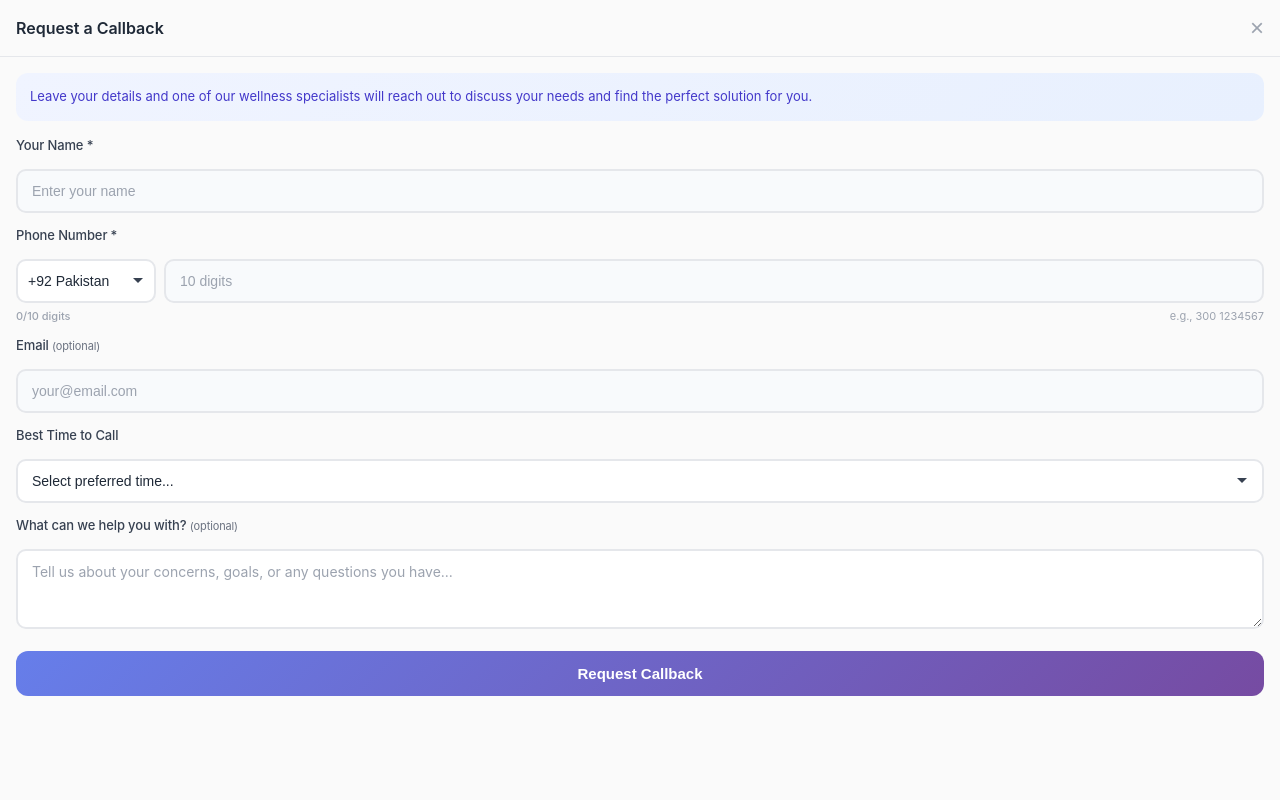
CallbackForm Validation › should show name validation error on blur
Click the field with placeholder "Enter your name" at (640, 190), box top-left (16, 168), bottom-right (1264, 212)
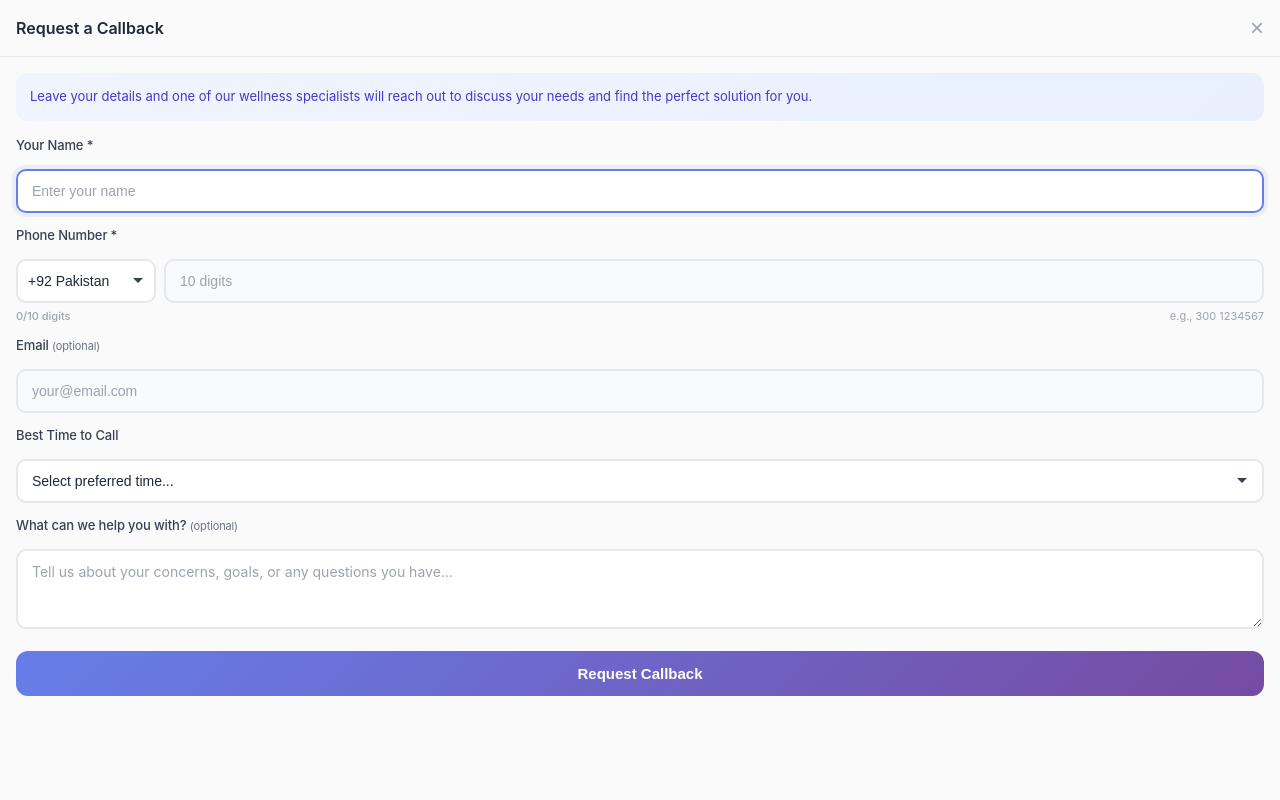
Press Tab
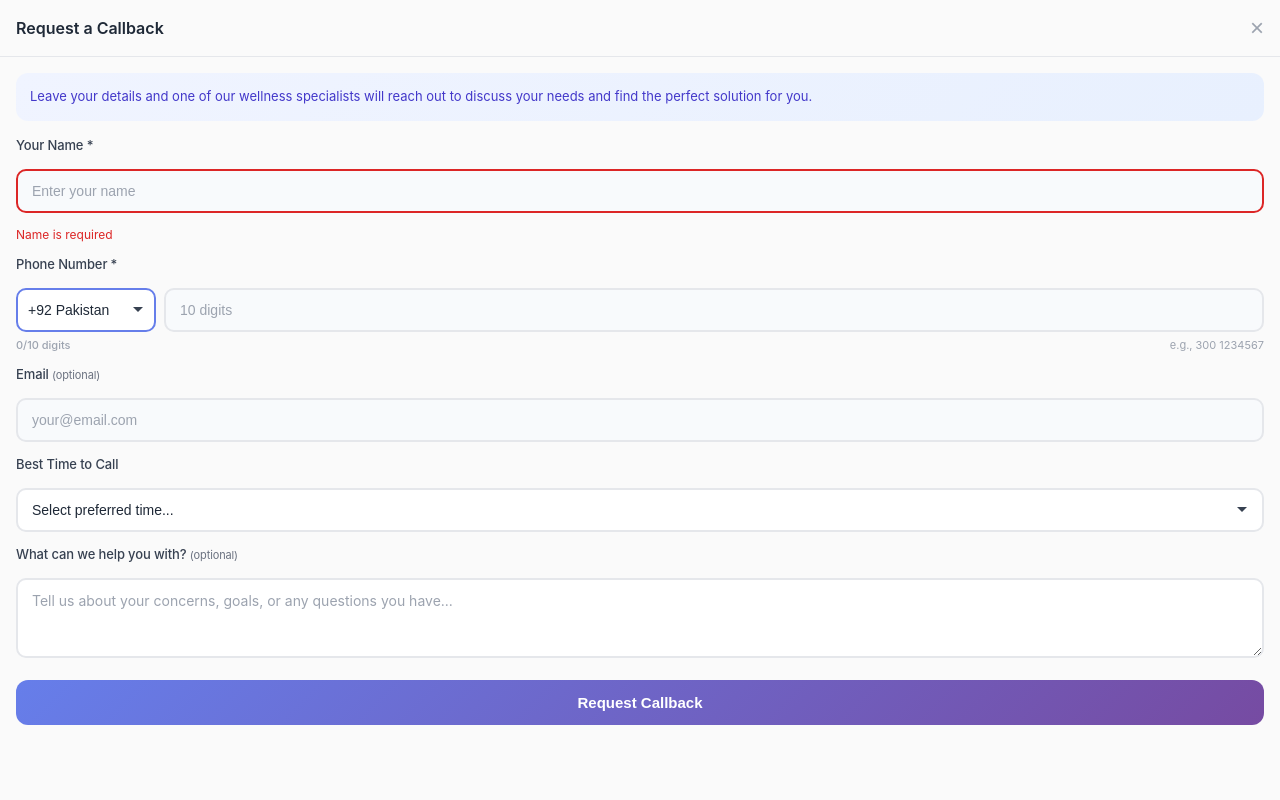
Now the text "Name is required" is shown, box top-left (16, 226), bottom-right (113, 242)
